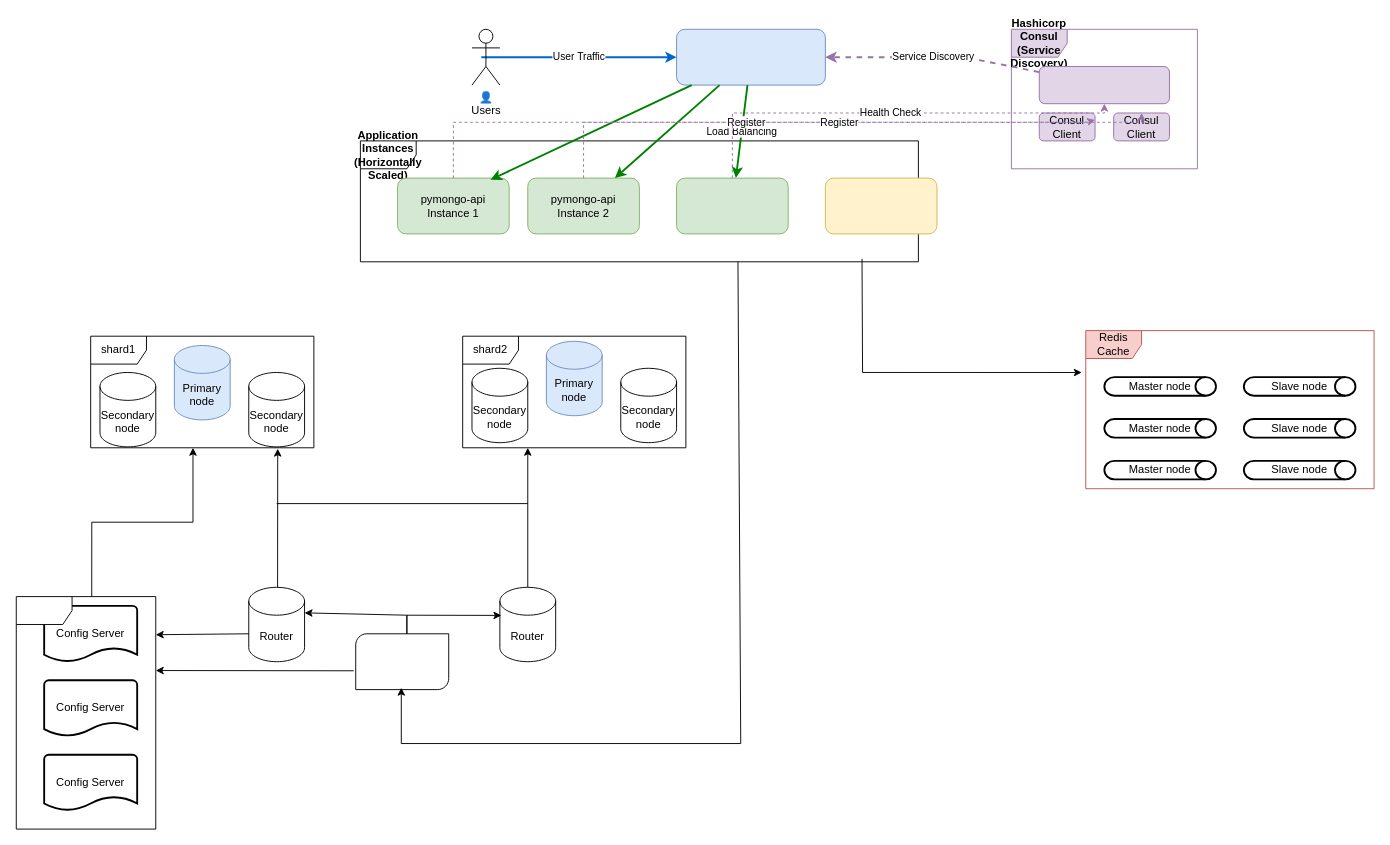
This 1390x845 diagram has some shape labels left out. Here are the shapes that lost their labels. From the top down, the centre of each, then its label:
At [750,56]: "API Gateway (Load Balancer)".
At [1103,85]: "Consul Server (Leader)".
At [732,205]: "pymongo-api Instance 3".
At [880,205]: "pymongo-api Instance N (Auto-scaling)".
At [402,661]: "MongoDb Driver".
At [85,712]: "Config Serv".
